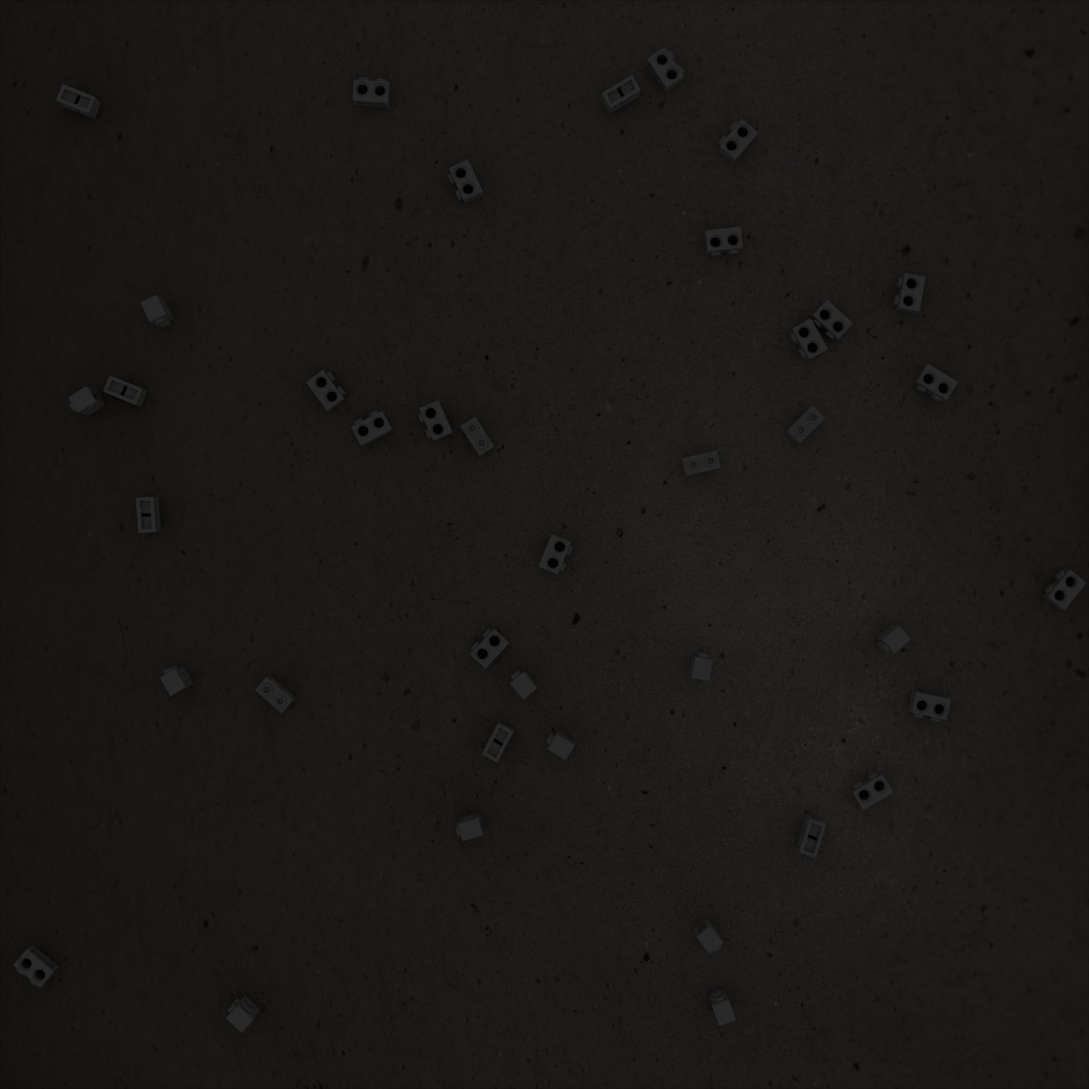lego: (13, 944, 59, 988), (1042, 569, 1087, 610), (810, 299, 853, 341), (718, 119, 758, 164), (646, 47, 685, 93), (849, 772, 894, 811), (913, 364, 958, 402), (306, 370, 346, 412), (789, 318, 828, 361), (470, 628, 510, 669), (448, 159, 484, 204), (255, 675, 297, 713), (351, 410, 394, 447), (56, 84, 101, 119), (601, 75, 641, 114), (785, 405, 825, 444), (418, 400, 454, 442), (103, 375, 148, 407), (538, 534, 573, 575), (460, 416, 495, 457), (908, 690, 951, 722), (893, 273, 926, 314), (482, 721, 514, 763), (796, 815, 827, 858), (226, 995, 260, 1033), (704, 226, 743, 257), (352, 77, 391, 108), (693, 917, 724, 954), (68, 386, 106, 416), (680, 450, 721, 477), (141, 295, 174, 328), (160, 665, 194, 696), (875, 624, 911, 653), (708, 989, 736, 1026), (136, 497, 161, 533), (546, 730, 575, 760), (510, 669, 537, 700), (456, 812, 484, 841), (688, 652, 713, 681)
